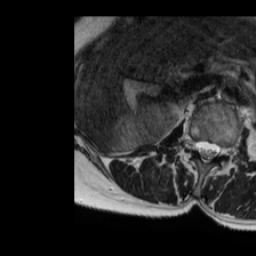CCS_normal: (203, 131, 210, 171)
LFS_normal: (219, 136, 228, 162)
LLS_normal: (210, 135, 219, 165)
RFS_normal: (187, 128, 195, 158)
RLS_normal: (195, 131, 203, 161)
